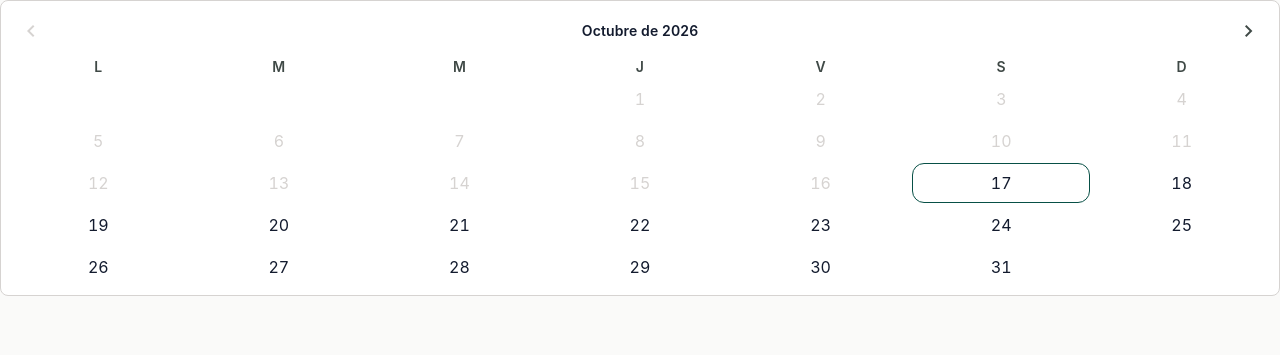
no deja marcar días pasados ni a más de 90 días
Expected: the button named "16 de octubre" is disabled, [731, 163, 910, 203]
Expected: the button named "17 de octubre" is enabled, [912, 163, 1090, 203]
Click the button named "Mes siguiente" at [1249, 31], box [1227, 9, 1271, 53]
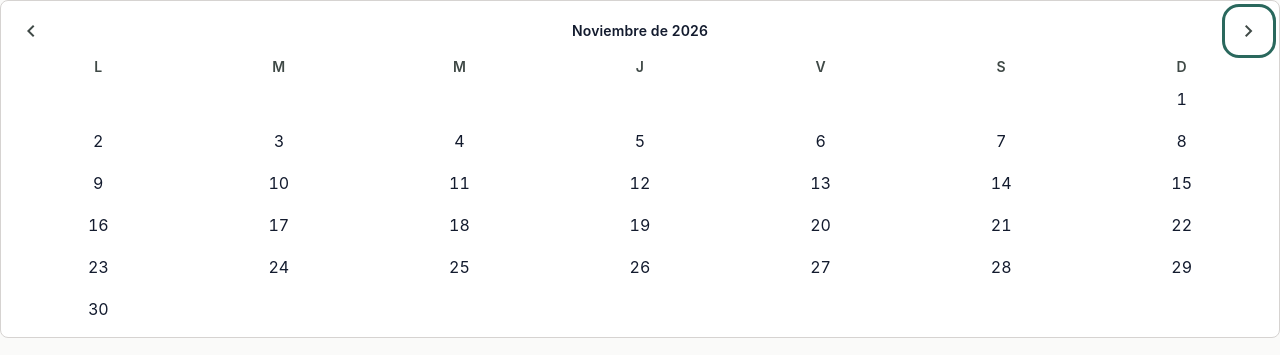
Click the button named "Mes siguiente" at [1249, 31], box [1227, 9, 1271, 53]
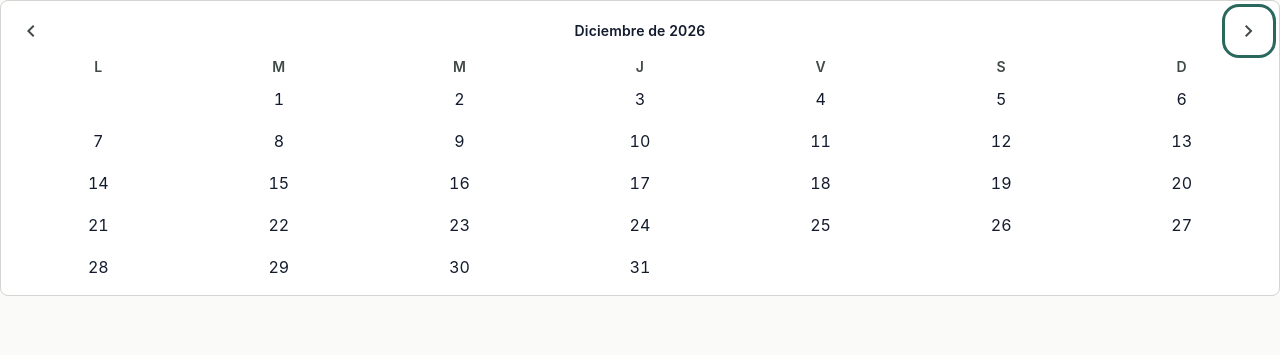
Click the button named "Mes siguiente" at [1249, 31], box [1227, 9, 1271, 53]
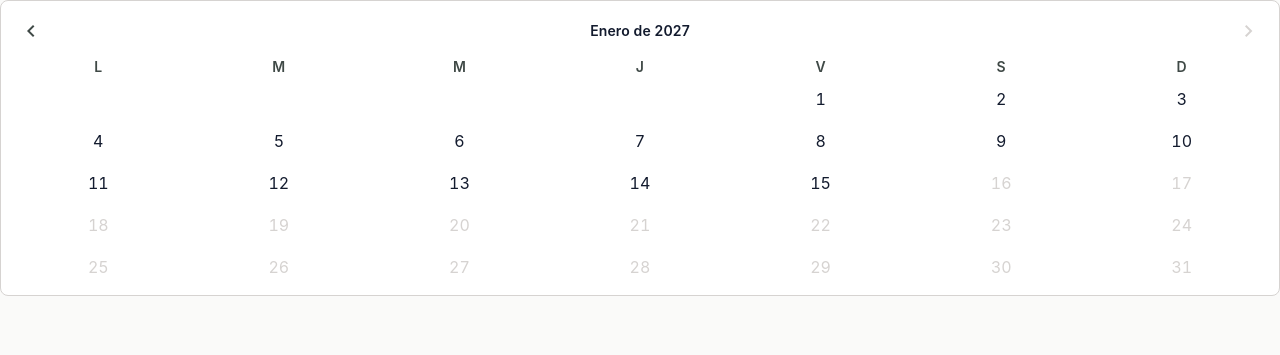
Now the button named "15 de enero" is enabled, box [731, 163, 910, 203]
Now the text "Enero de 2027" is shown, box [590, 21, 690, 41]
Now the button named "16 de enero" is disabled, box [912, 163, 1090, 203]
